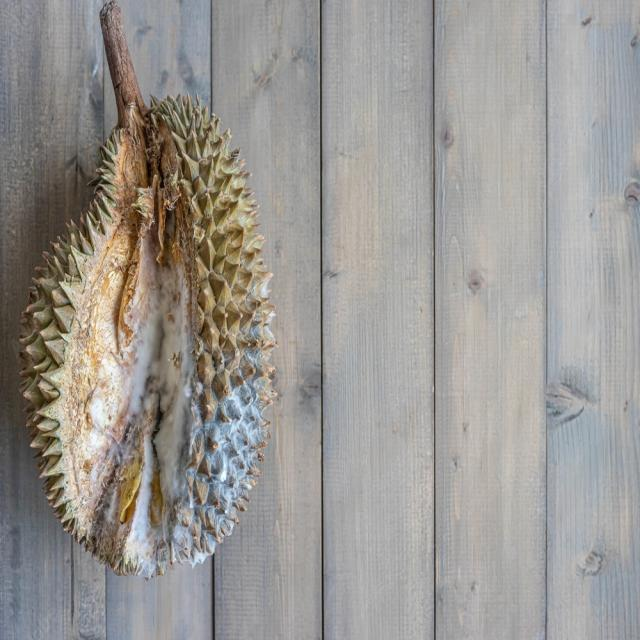defective: (21, 86, 277, 577)
